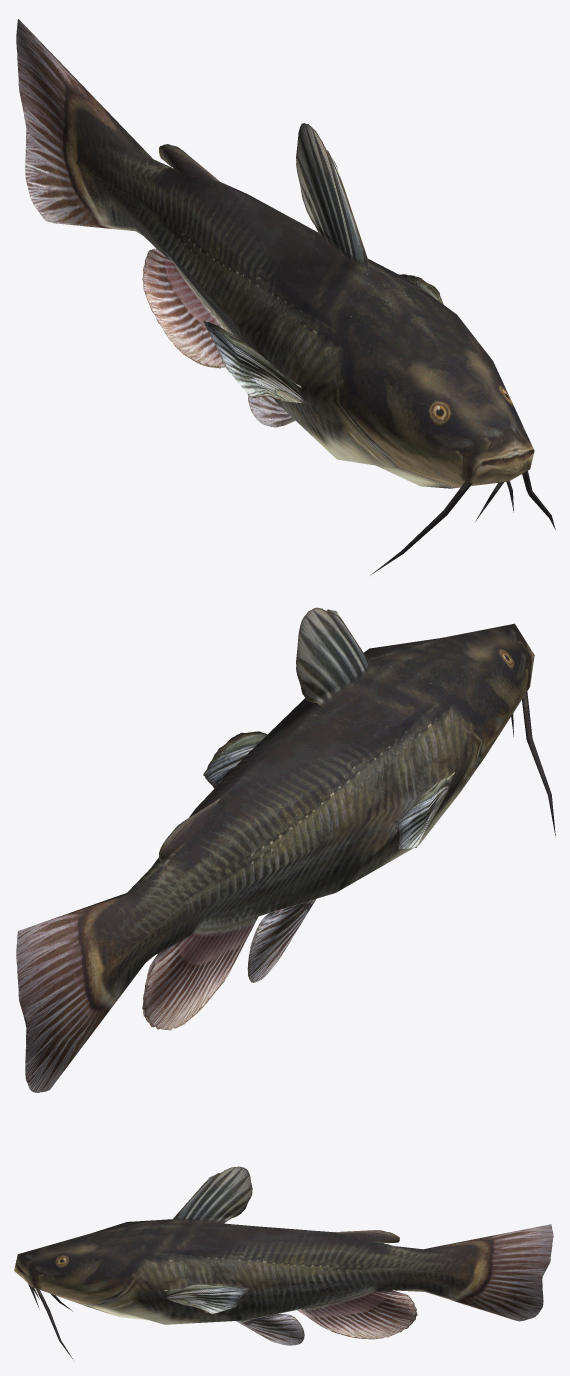
The model's file is catfishRawModel.obj.
3 views of the same model, one above another, from view 1: azimuth 30°, elevation 25°; view 2: azimuth 150°, elevation 25°; view 3: azimuth 270°, elevation 25° (orthographic). The views are drawn at different scales.
Parts seen in each view (by area): view 1: catfish; view 2: catfish; view 3: catfish.
Boxes of the visible parts, box(x1,y1,x2,y2) form: catfish: box(16, 19, 555, 575); catfish: box(16, 607, 555, 1092); catfish: box(14, 1166, 553, 1358).
Size of the model in its own units: 50.69 by 80.49 by 213.
1 material, 1 textured.
